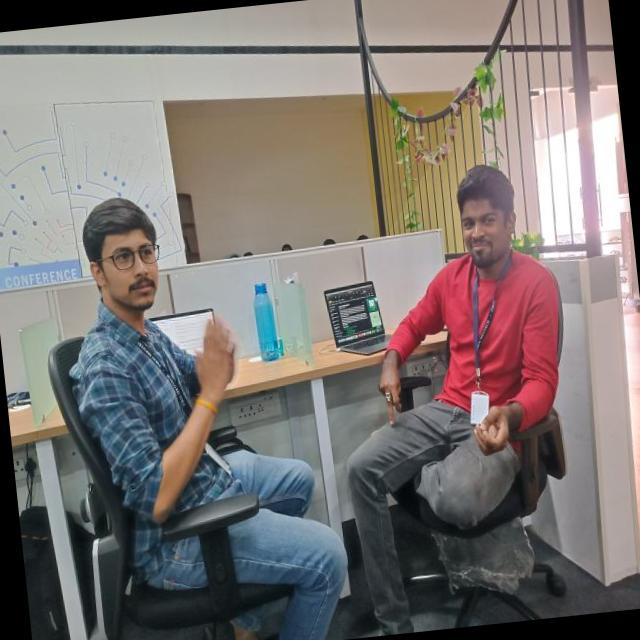id_card: (148, 315, 228, 482), (454, 250, 510, 420)
